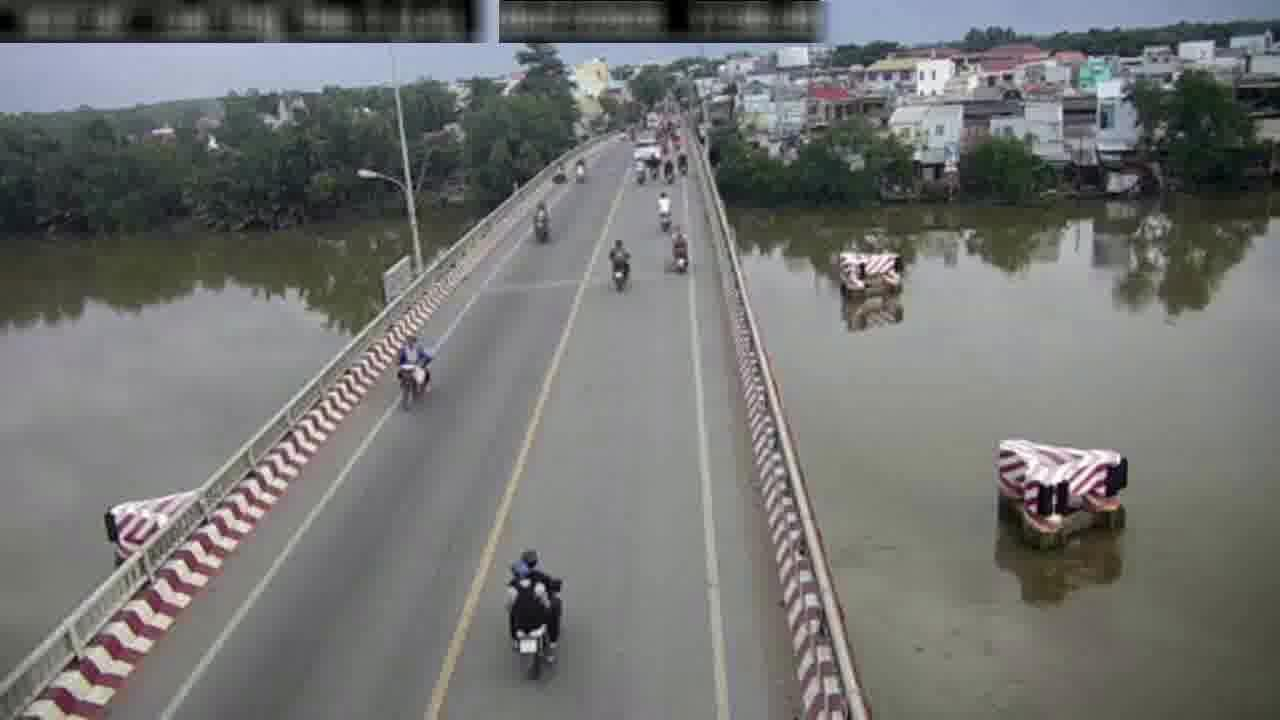motorbike: (501, 551, 565, 683), (394, 322, 435, 413), (609, 237, 630, 293), (667, 225, 689, 275), (656, 185, 675, 234), (532, 200, 546, 247)
